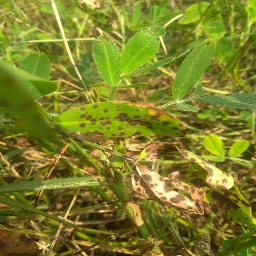GroundNut_Leaf: (55, 101, 199, 146), (134, 161, 207, 218), (126, 21, 174, 78), (176, 35, 219, 98), (90, 32, 123, 87), (202, 133, 227, 157), (229, 138, 251, 158)
